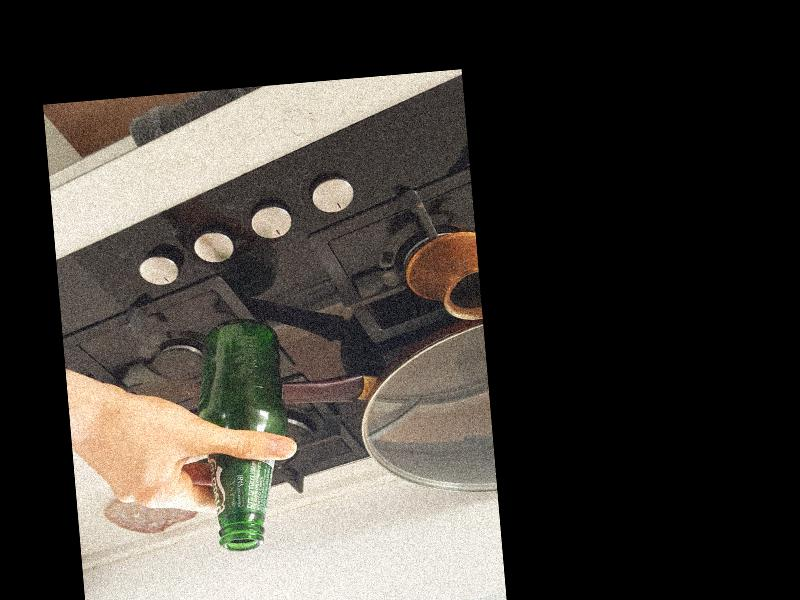Beer: (199, 316, 295, 550)
